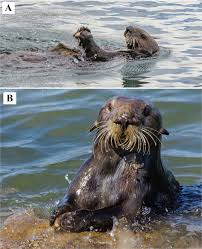otter: (81, 94, 193, 227), (65, 9, 177, 69)
